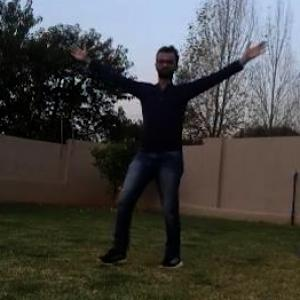takeoff: (99, 55, 286, 270)
